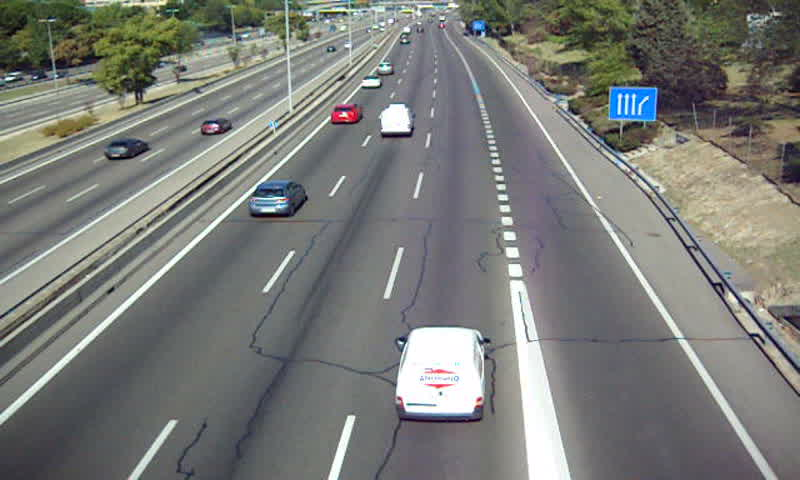car: (247, 179, 305, 214), (330, 104, 361, 125), (360, 75, 381, 88), (376, 62, 392, 76)
van: (394, 328, 485, 420), (380, 103, 416, 135)
